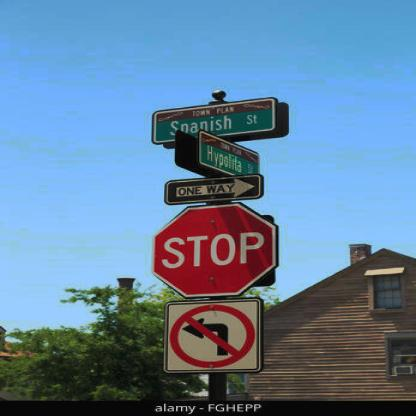No left turn: (159, 302, 262, 375)
